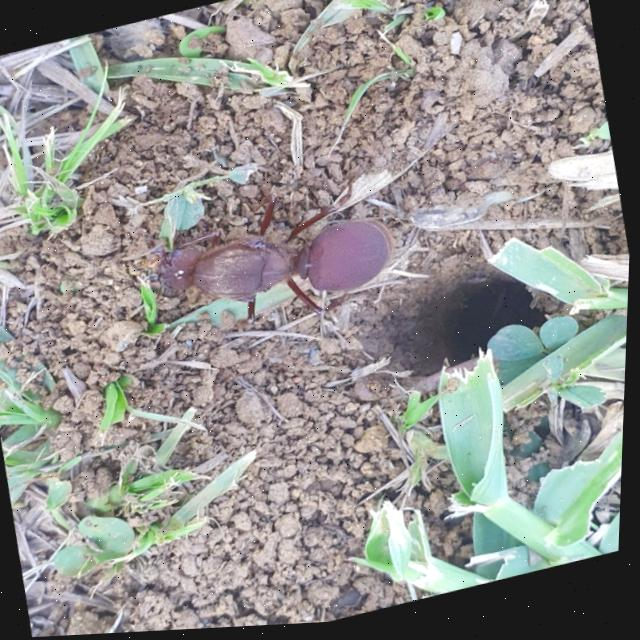Alive-Female-Dealate: (158, 171, 410, 351)
